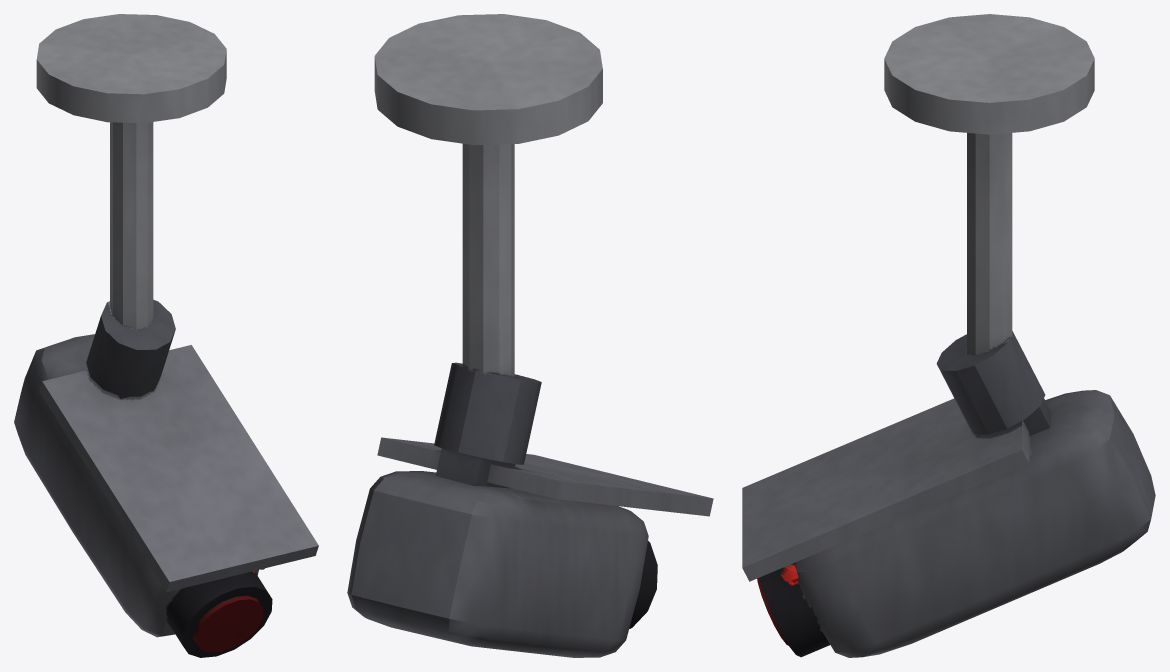
File: Hazard_SecurityCamera.fbx
3 renders of one model, left to right at view 1: azimuth 30°, elevation 25°; view 2: azimuth 150°, elevation 25°; view 3: azimuth 270°, elevation 25°, orthographic. The views are drawn at different scales.
Visible parts, largest first — view 1: Head, Hazard_SecurityCamera.001; view 2: Head, Hazard_SecurityCamera.001; view 3: Head, Hazard_SecurityCamera.001.
Part boxes in pixels (x1=…): Head: x1=14, y1=299, x2=318, y2=657; Hazard_SecurityCamera.001: x1=36, y1=14, x2=226, y2=329; Head: x1=347, y1=362, x2=713, y2=657; Hazard_SecurityCamera.001: x1=374, y1=14, x2=602, y2=376; Head: x1=742, y1=331, x2=1155, y2=657; Hazard_SecurityCamera.001: x1=884, y1=14, x2=1094, y2=355.
Bounding box in the file's own units: 0.15 × 0.4665 × 0.2945.
1 material, 1 textured.
